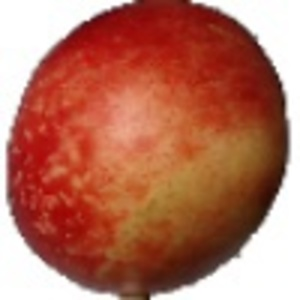nectarina: (1, 1, 291, 300)
